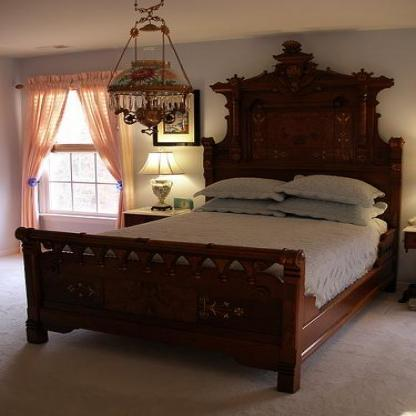Bed: (15, 31, 411, 398)
